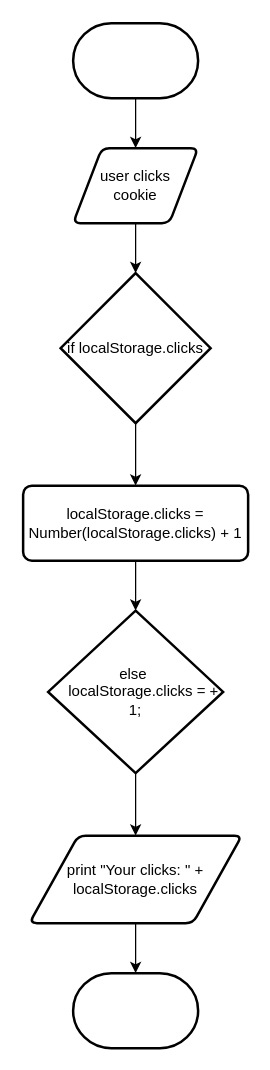
This 270x1070 diagram has some shape labels left out. The shapes that lost their labels are listed below. From the top down, each one's centre as x and y in pixels, then its label:
At (135,60): "start".
At (135,1010): "stop".
